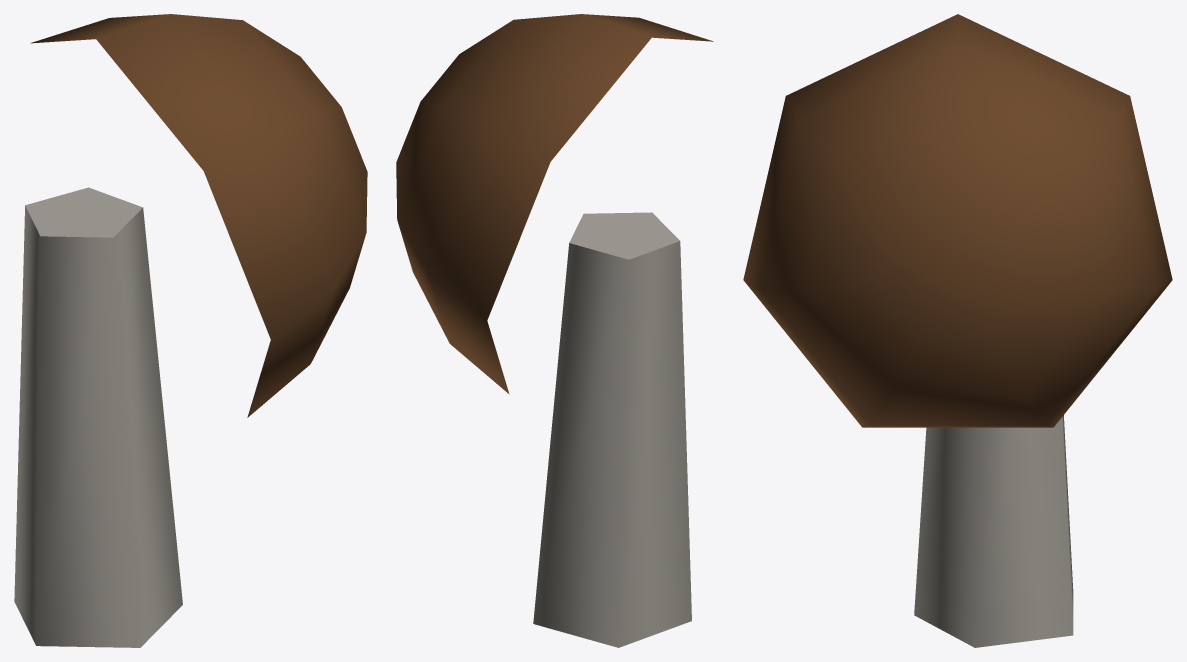
The model's file is mushroom-brown.glb.
3 views of the same model, side by side, from view 1: azimuth 30°, elevation 25°; view 2: azimuth 150°, elevation 25°; view 3: azimuth 270°, elevation 25° (orthographic). The views are drawn at different scales.
Visible parts, largest first — view 1: mushroom-brown; view 2: mushroom-brown; view 3: mushroom-brown.
Boxes of the visible parts, x1,y1,x2,y2 form: mushroom-brown: (14, 14, 367, 647); mushroom-brown: (396, 14, 713, 647); mushroom-brown: (743, 14, 1172, 647).
Bounding box in the file's own units: 0.1081 × 0.2127 × 0.1379.
